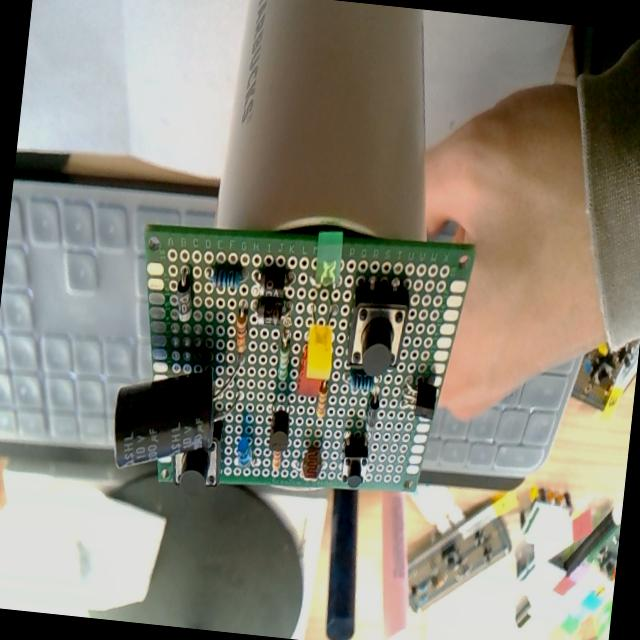Electrolytic capacitor: (107, 354, 223, 482)
cds: (300, 446, 322, 482)
diode: (173, 270, 196, 322), (255, 264, 288, 298), (254, 296, 283, 327), (364, 394, 380, 432)
led: (302, 321, 336, 382), (313, 226, 346, 284), (234, 414, 256, 469)
resistor: (210, 263, 246, 292), (344, 367, 378, 397), (276, 335, 292, 383), (233, 310, 250, 352), (315, 382, 328, 419), (271, 450, 281, 474)
switch: (343, 276, 410, 380), (174, 414, 226, 491), (339, 432, 370, 488)
transistor: (398, 376, 438, 422), (268, 394, 293, 453)
